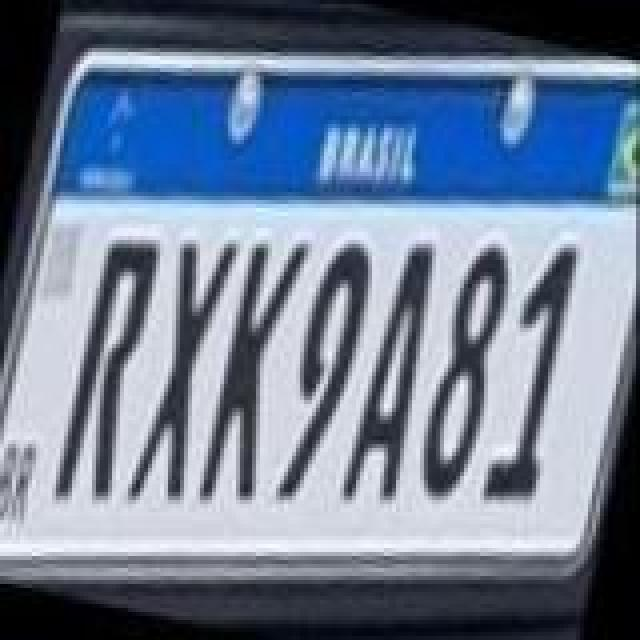1: (476, 228, 588, 508)
8: (408, 226, 520, 506)
9: (268, 228, 380, 508)
A: (340, 230, 452, 510)
K: (194, 224, 310, 516)
R: (50, 224, 166, 512)
X: (118, 224, 242, 520)
